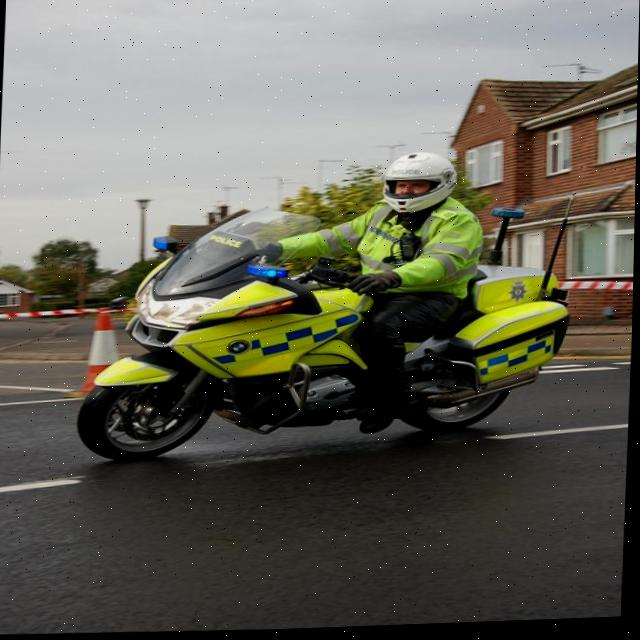motorcycle: (71, 183, 579, 474)
